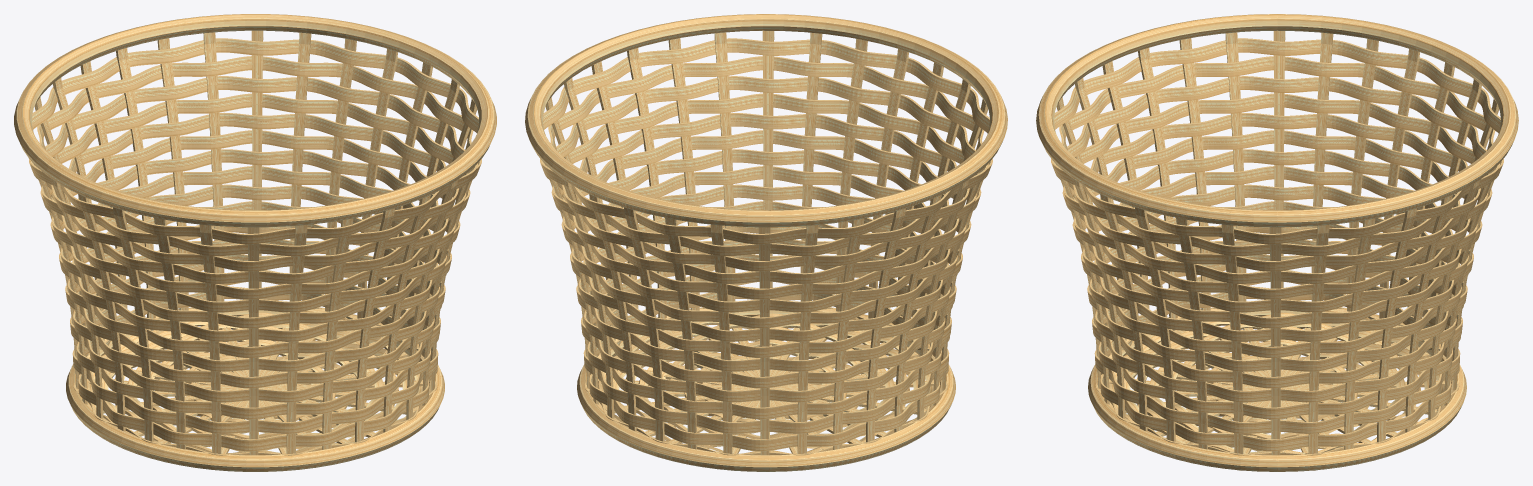
Rendered from basket.fbx.
3 renders of one model, left to right at view 1: azimuth 30°, elevation 25°; view 2: azimuth 150°, elevation 25°; view 3: azimuth 270°, elevation 25°, orthographic.
Visible parts, largest first — view 1: uploads_files_598787_Basket; view 2: uploads_files_598787_Basket; view 3: uploads_files_598787_Basket.
Boxes of the visible parts, x1,y1,x2,y2 form: uploads_files_598787_Basket: (14,14,496,471); uploads_files_598787_Basket: (525,14,1007,471); uploads_files_598787_Basket: (1036,14,1518,471).
Bounding box in the file's own units: 27001 × 17500 × 27001.
1 material, 1 textured.
